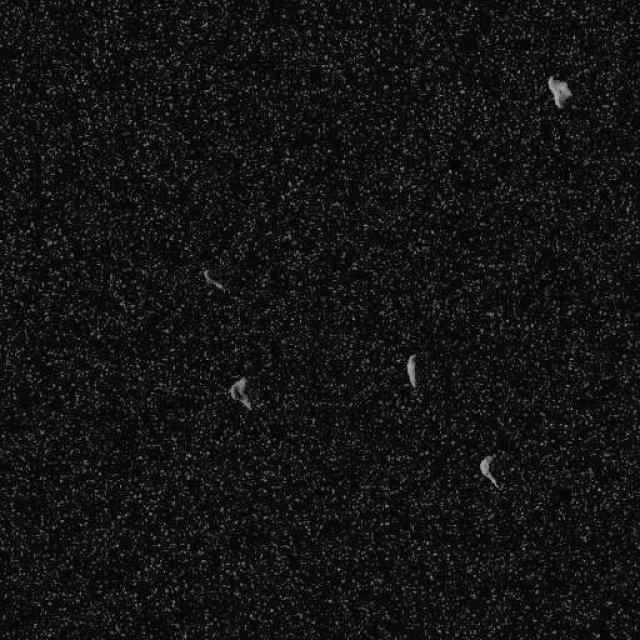D2: (546, 74, 572, 108), (228, 375, 252, 410), (479, 454, 499, 488), (199, 268, 226, 292), (405, 352, 417, 388)
